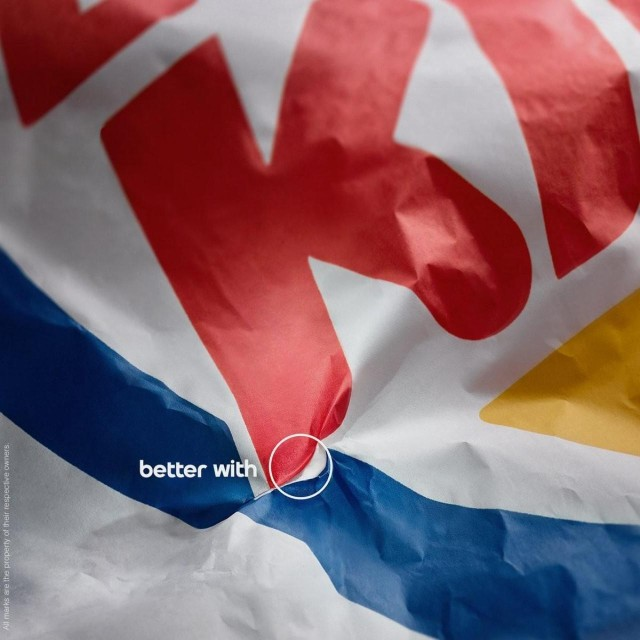pepsi: (263, 430, 340, 502)
